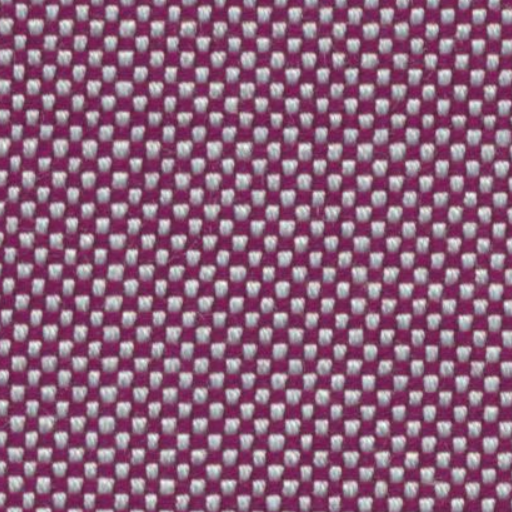TuoSha: (12, 66, 500, 154)
